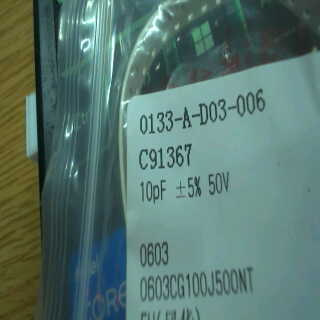10pF: (135, 168, 171, 207)
